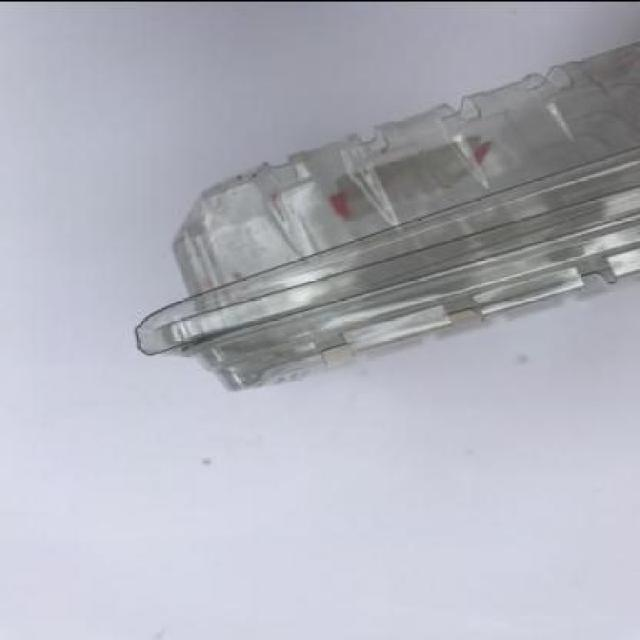PLASTIC: (131, 39, 638, 390)
